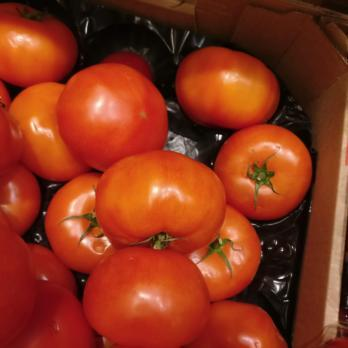Tomato: (0, 1, 319, 348)
